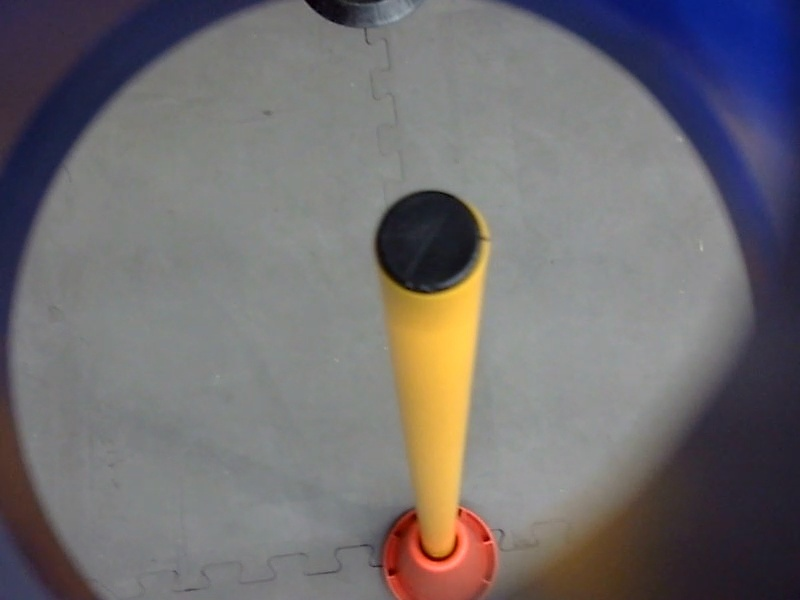tip: (362, 181, 496, 308)
